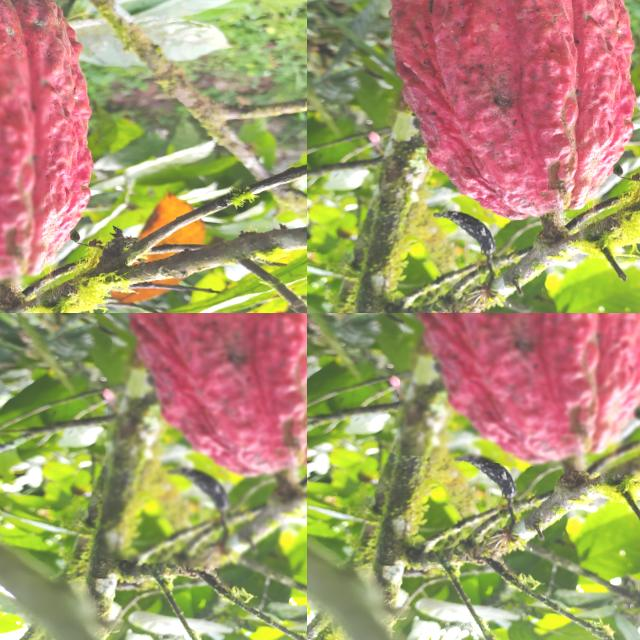Fitoftora: (307, 0, 336, 37)
Monilia: (0, 39, 55, 280)
Sana: (105, 313, 307, 575), (401, 313, 640, 468), (448, 128, 492, 181), (582, 19, 597, 38), (585, 36, 600, 48)
